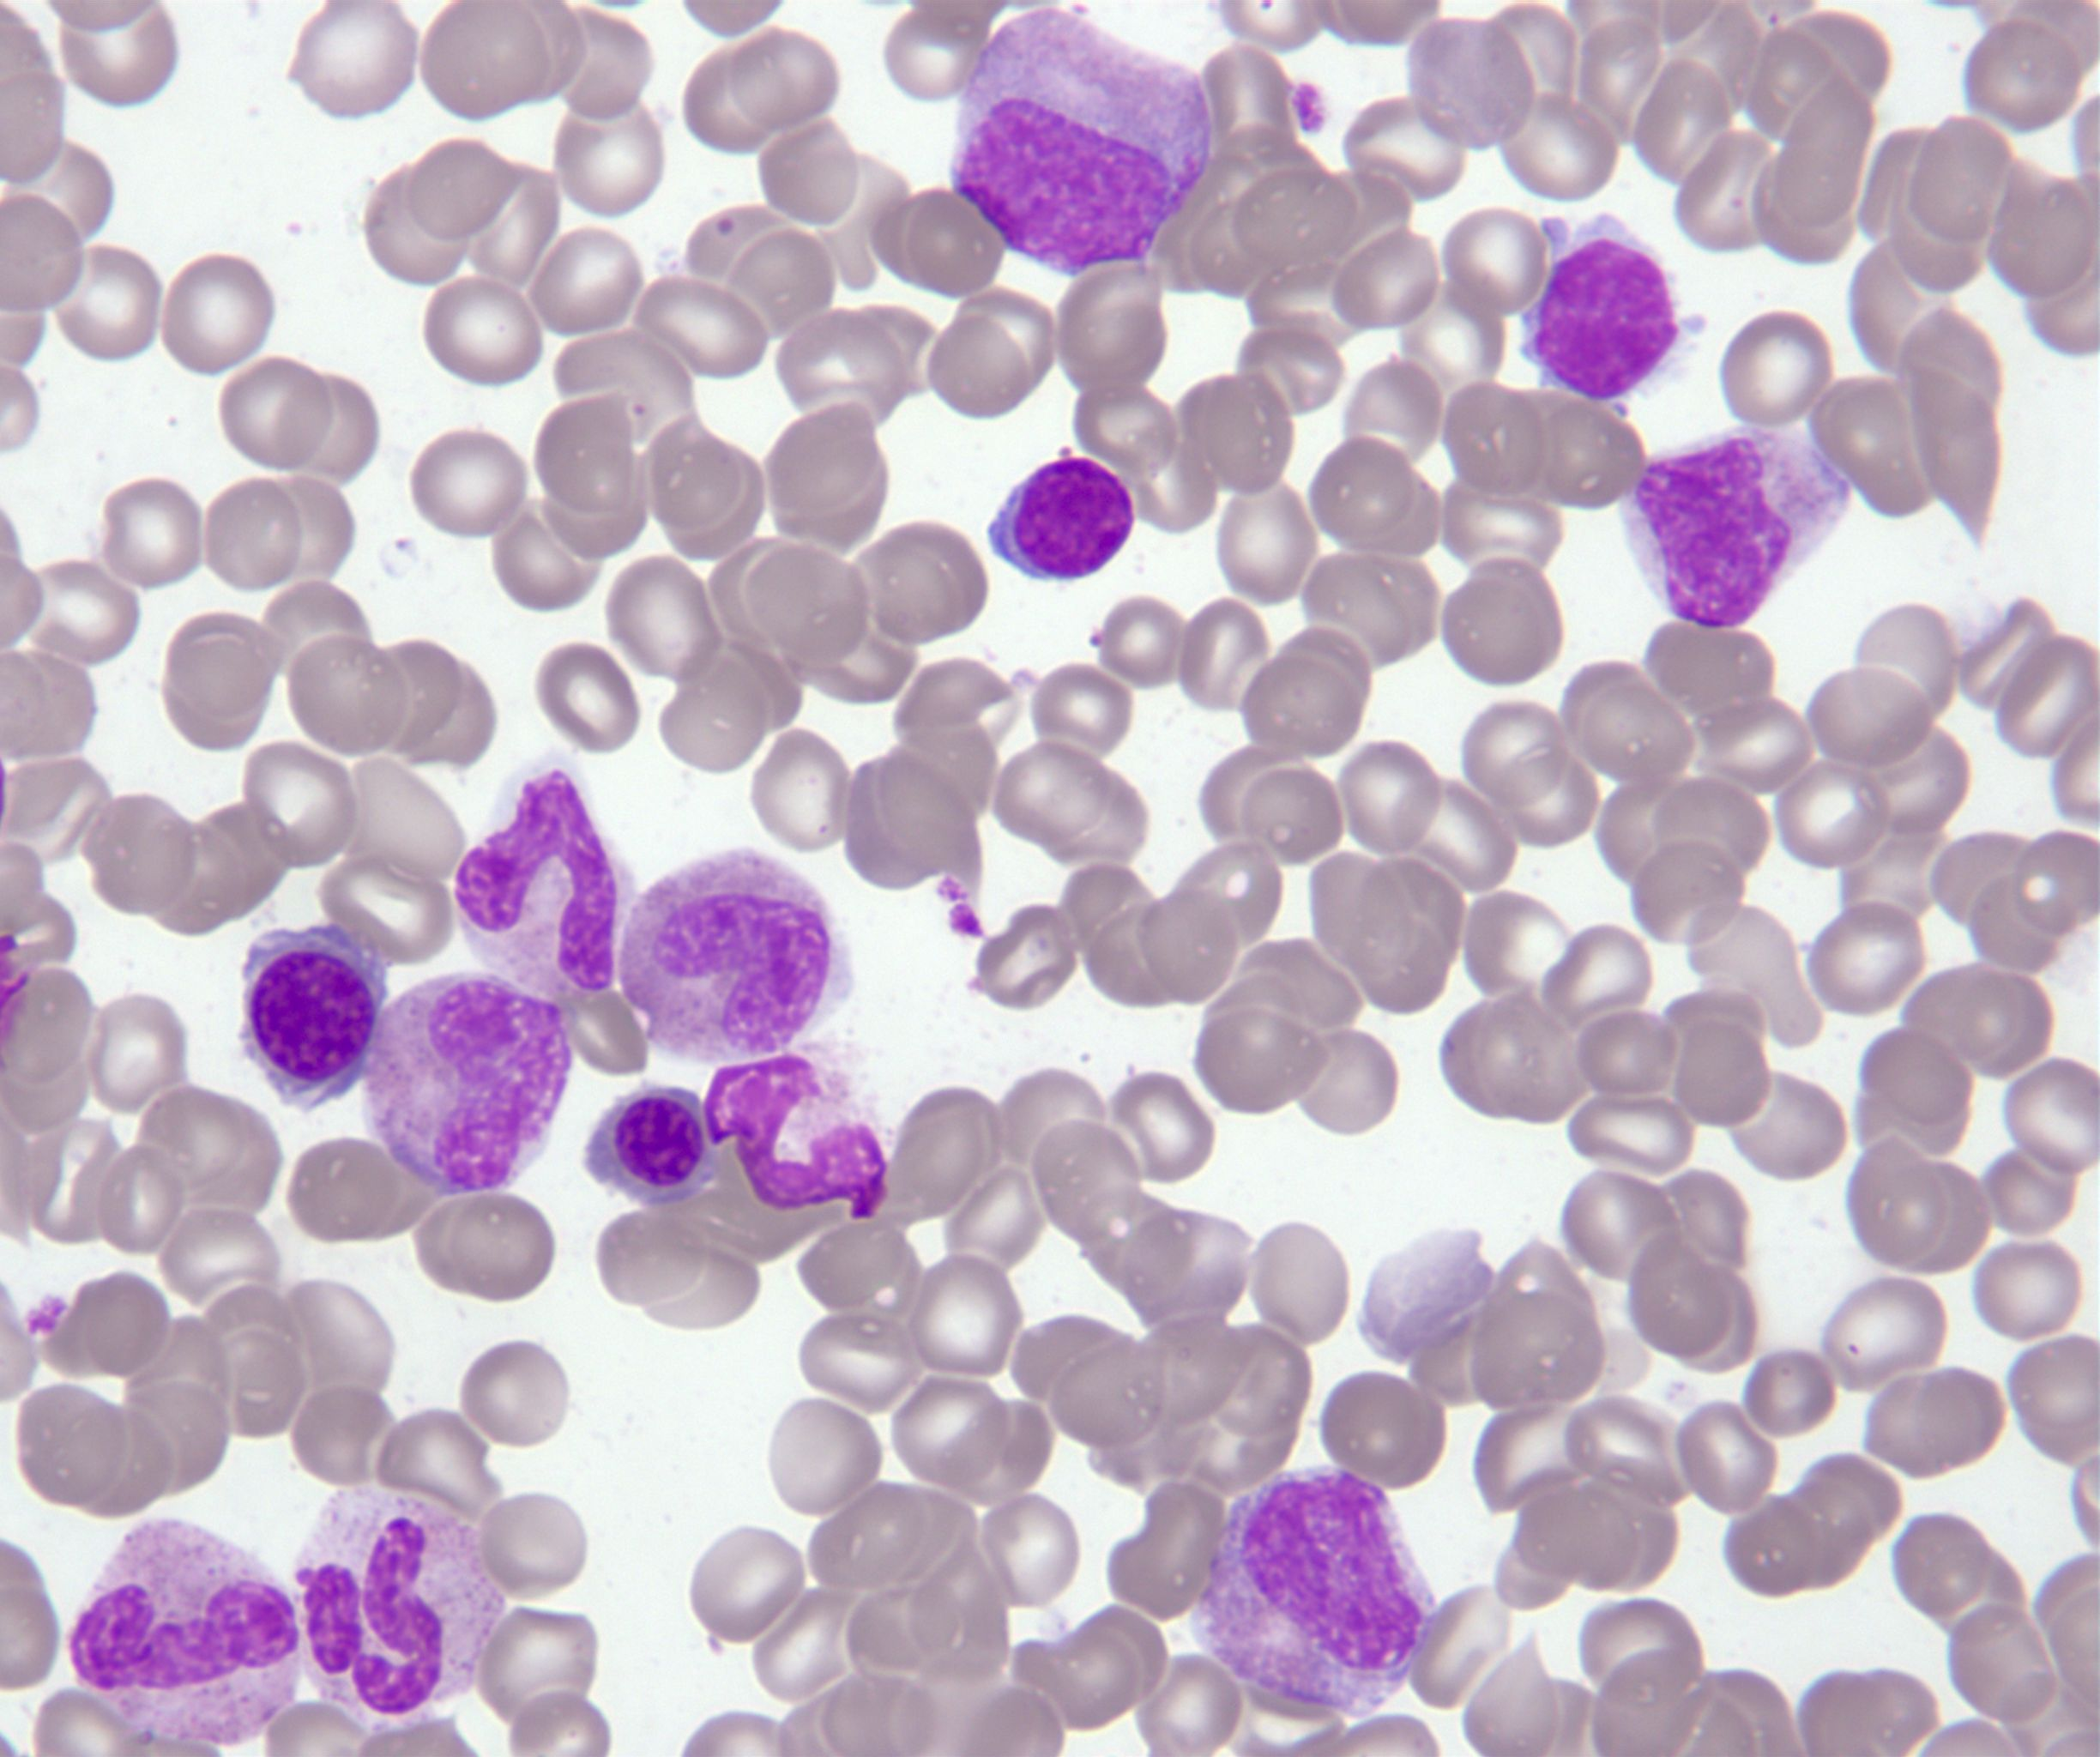3: (945, 7, 1214, 279), (1186, 1459, 1441, 1726)
32: (1512, 206, 1695, 412), (985, 447, 1139, 588)
4: (1612, 419, 1858, 637)
5: (617, 841, 858, 1071), (447, 738, 642, 1014), (358, 967, 579, 1199), (699, 1049, 893, 1230), (581, 1078, 726, 1207)
6: (58, 1511, 310, 1752), (284, 1480, 516, 1738)
x: (237, 921, 392, 1118)
